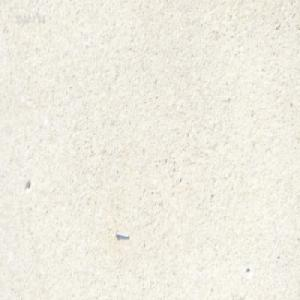Nail: (114, 229, 129, 238)
